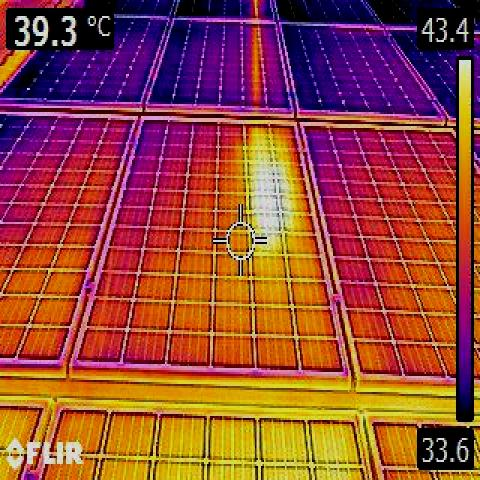fault: (255, 166, 288, 242)
